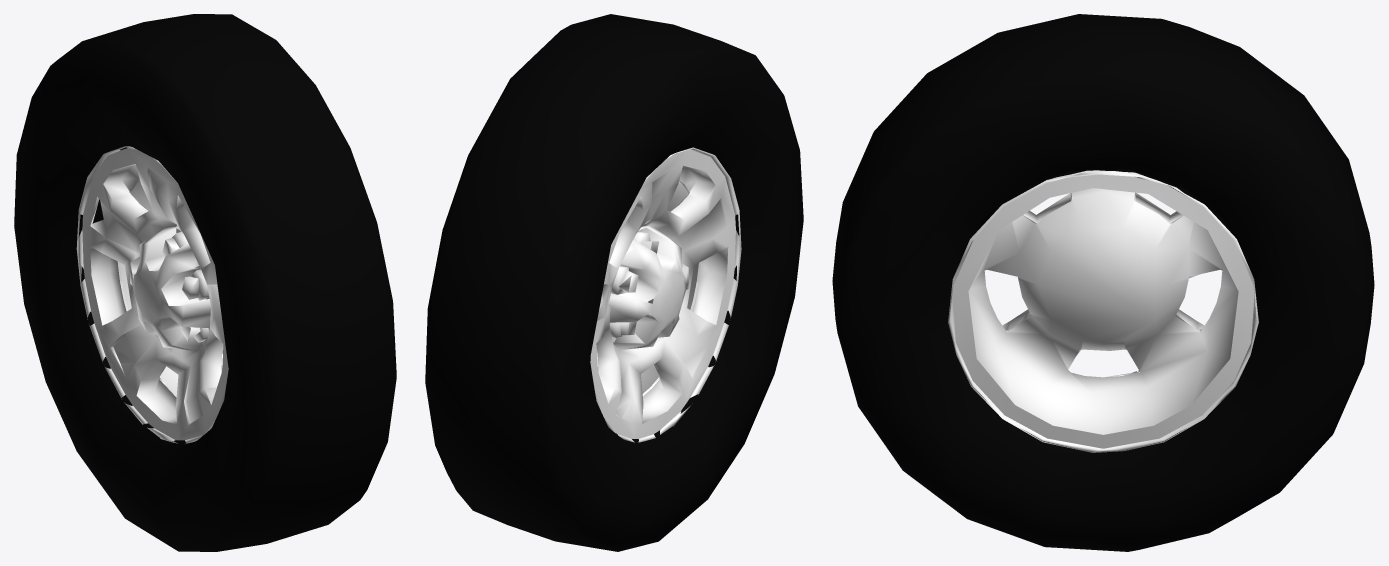
The model's file is chevy_tahoe_wheel.obj.
3 renders of one model, left to right at view 1: azimuth 30°, elevation 25°; view 2: azimuth 150°, elevation 25°; view 3: azimuth 270°, elevation 25°, orthographic. The views are drawn at different scales.
Visible parts, largest first — view 1: chevy_tahoe_wheel_chev_tahoe_body.011; view 2: chevy_tahoe_wheel_chev_tahoe_body.011; view 3: chevy_tahoe_wheel_chev_tahoe_body.011.
Boxes of the visible parts, x1,y1,x2,y2 form: chevy_tahoe_wheel_chev_tahoe_body.011: (14,14,396,551); chevy_tahoe_wheel_chev_tahoe_body.011: (425,14,803,551); chevy_tahoe_wheel_chev_tahoe_body.011: (832,14,1374,551).
Bounding box in the file's own units: 0.2636 × 0.8568 × 0.8557.
